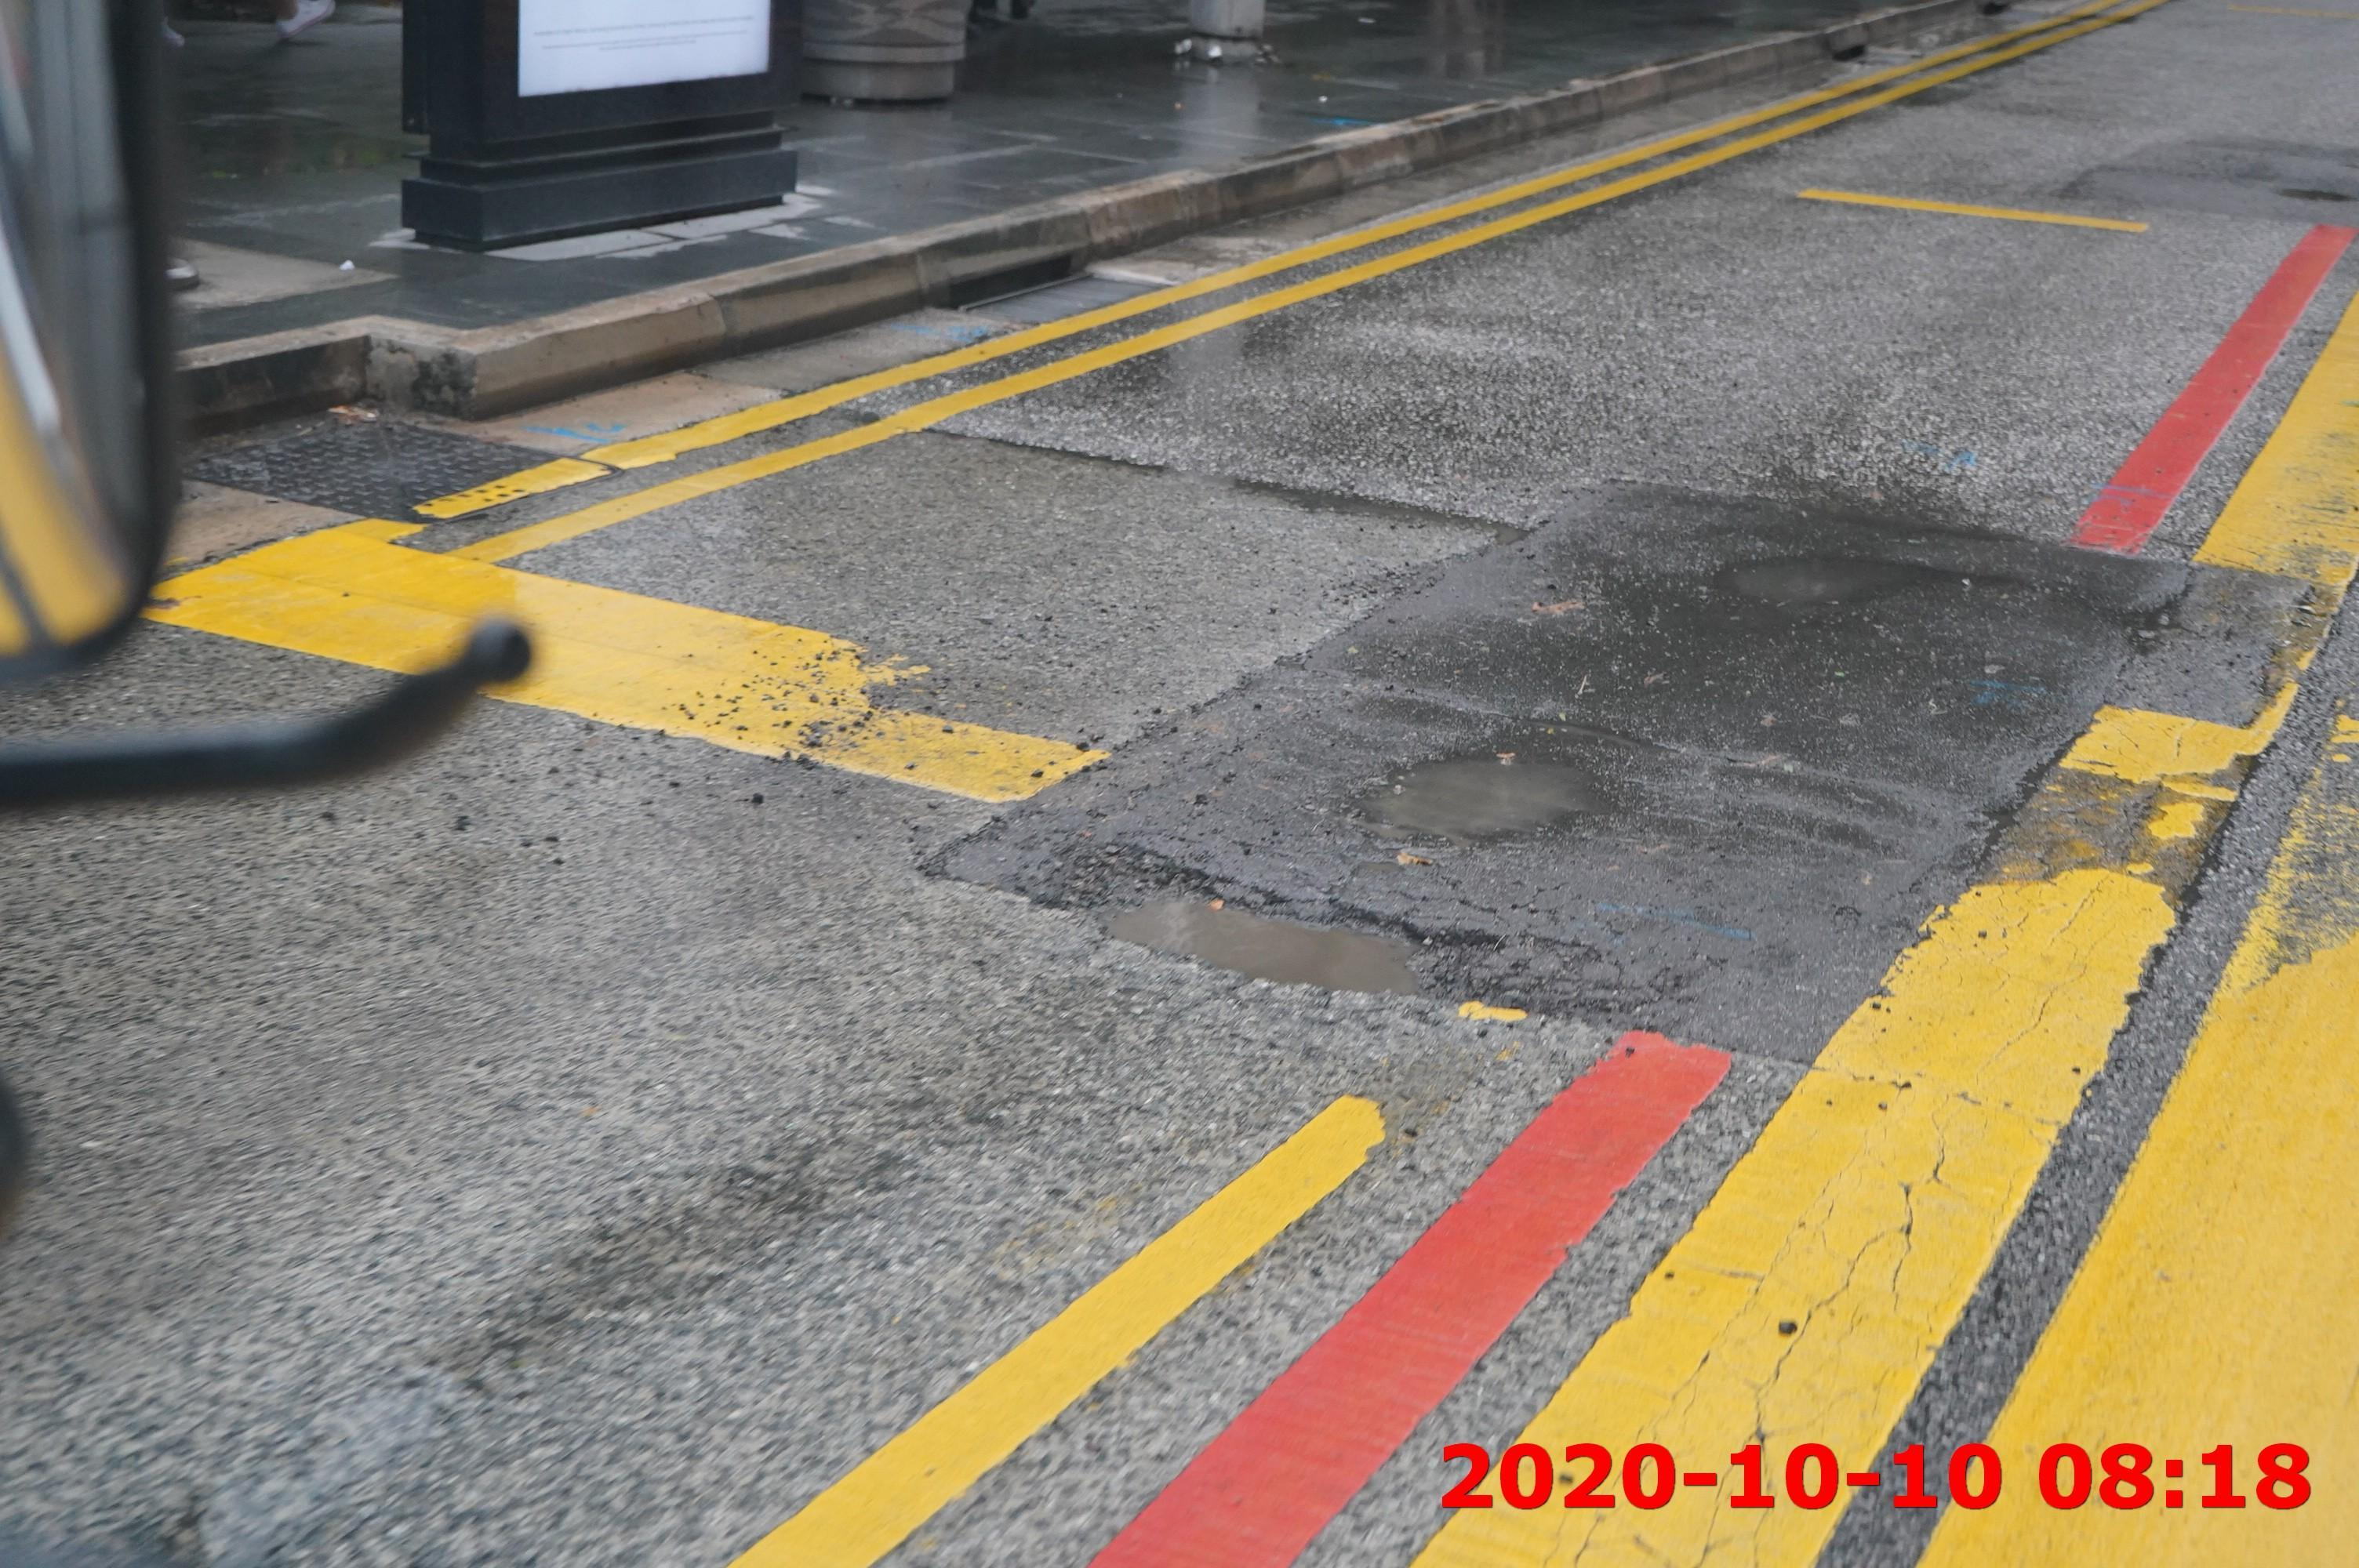pothole with crack: (1025, 828, 1494, 1006), (1342, 739, 1613, 857)
